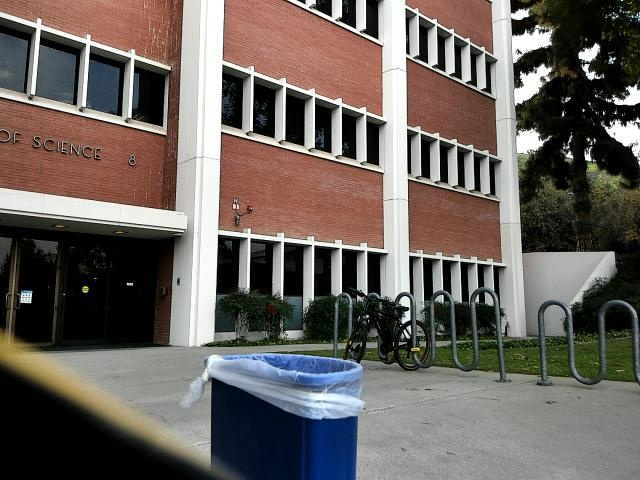trashcan_open: (194, 353, 376, 480)
